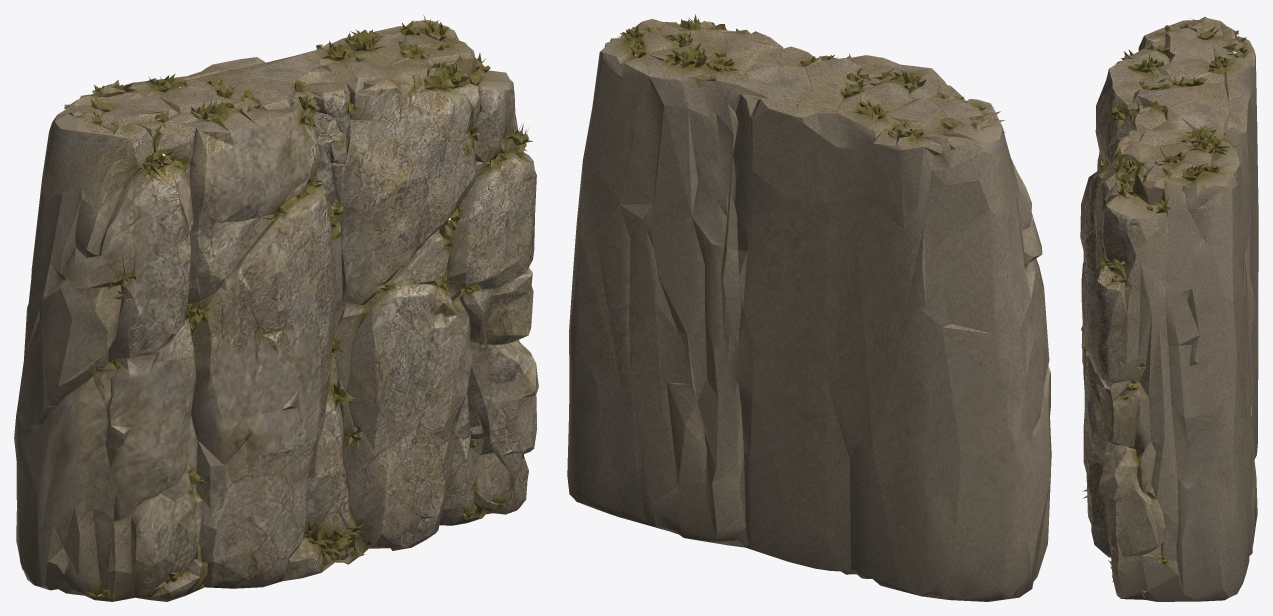
File: pared_grietas_alto.glb
The picture shows the model from 3 angles, left to right: view 1: azimuth 30°, elevation 25°; view 2: azimuth 150°, elevation 25°; view 3: azimuth 270°, elevation 25°; orthographic projection. The views are drawn at different scales.
Visible parts, largest first — view 1: alto; view 2: alto; view 3: alto.
Part boxes in pixels (x1=…): alto: x1=14, y1=15, x2=538, y2=601; alto: x1=567, y1=14, x2=1051, y2=601; alto: x1=1080, y1=17, x2=1258, y2=601.
Bounding box in the file's own units: 4.21 × 4 × 1.55.
1 material, 1 textured.
